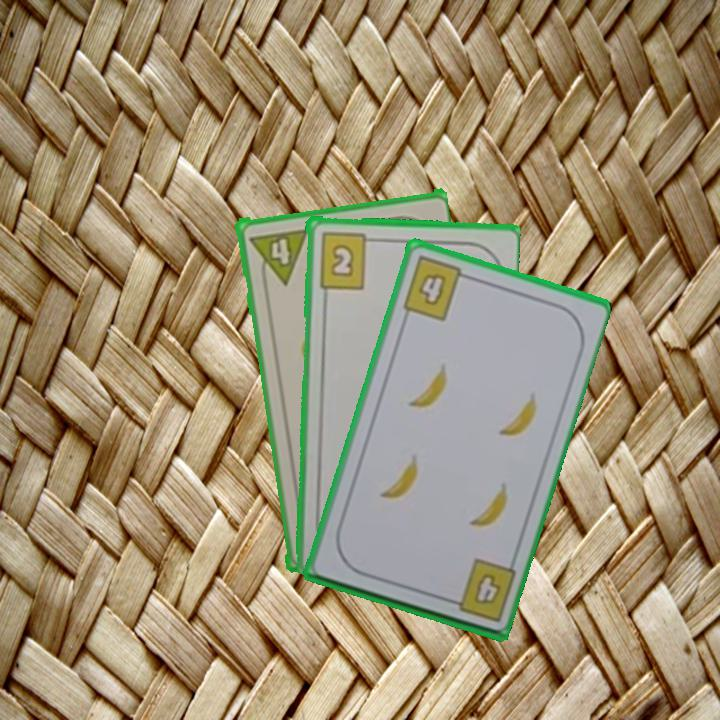2b: (315, 228, 378, 291)
4b: (399, 252, 473, 324), (441, 557, 518, 625)
4p: (245, 225, 310, 289)
